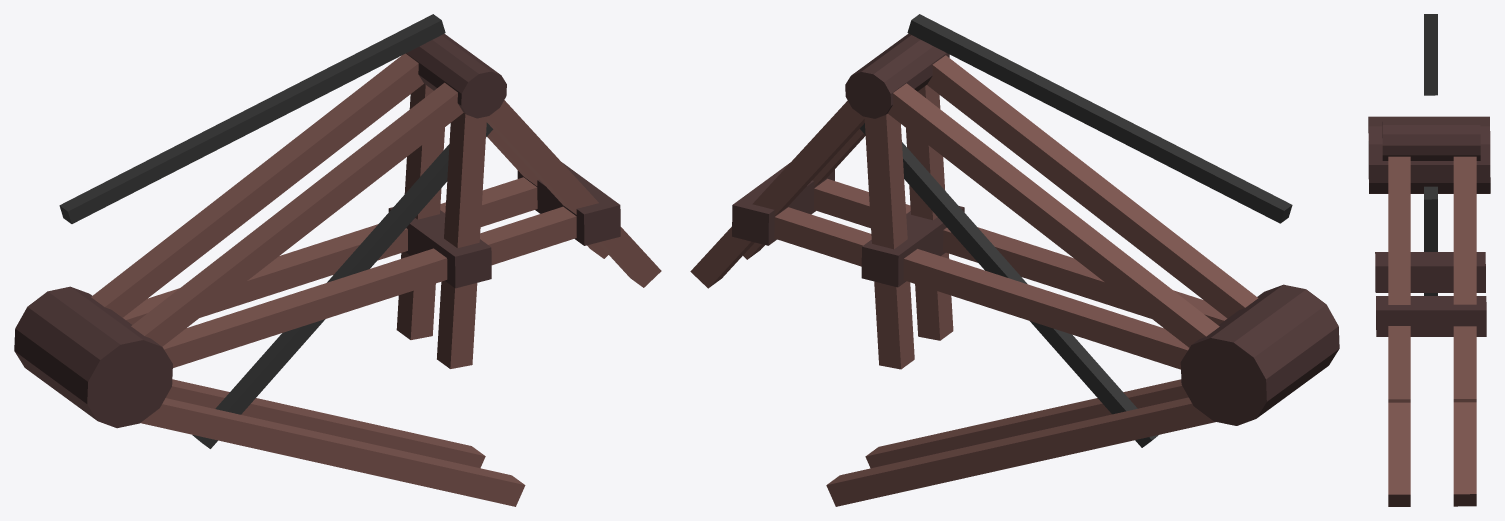
File: DarkRoseWoodMechMediumLiftWheelCrane1.fbx
The picture shows the model from 3 angles, left to right: view 1: azimuth 30°, elevation 25°; view 2: azimuth 150°, elevation 25°; view 3: azimuth 270°, elevation 25°; orthographic projection. The views are drawn at different scales.
Parts seen in each view (by area): view 1: DarkRoseWoodMechMediumLiftWheelCrane1Frame1, DarkRoseWoodMechMediumLiftWheelCrane1Rope1, DarkRoseWoodMechMediumLiftWheelCrane1Rope2; view 2: DarkRoseWoodMechMediumLiftWheelCrane1Frame1, DarkRoseWoodMechMediumLiftWheelCrane1Rope1, DarkRoseWoodMechMediumLiftWheelCrane1Rope2; view 3: DarkRoseWoodMechMediumLiftWheelCrane1Frame1, DarkRoseWoodMechMediumLiftWheelCrane1Rope1, DarkRoseWoodMechMediumLiftWheelCrane1Rope2.
Part boxes in pixels (x1,y1,x2,y2): DarkRoseWoodMechMediumLiftWheelCrane1Frame1: (14,33,661,506); DarkRoseWoodMechMediumLiftWheelCrane1Rope1: (59,14,445,223); DarkRoseWoodMechMediumLiftWheelCrane1Rope2: (192,122,493,448); DarkRoseWoodMechMediumLiftWheelCrane1Frame1: (690,33,1339,506); DarkRoseWoodMechMediumLiftWheelCrane1Rope1: (907,14,1292,223); DarkRoseWoodMechMediumLiftWheelCrane1Rope2: (860,123,1158,447); DarkRoseWoodMechMediumLiftWheelCrane1Frame1: (1368,116,1490,506); DarkRoseWoodMechMediumLiftWheelCrane1Rope1: (1424,14,1437,95); DarkRoseWoodMechMediumLiftWheelCrane1Rope2: (1424,186,1437,295).
Bounding box in the file's own units: 525 × 414 × 114.
